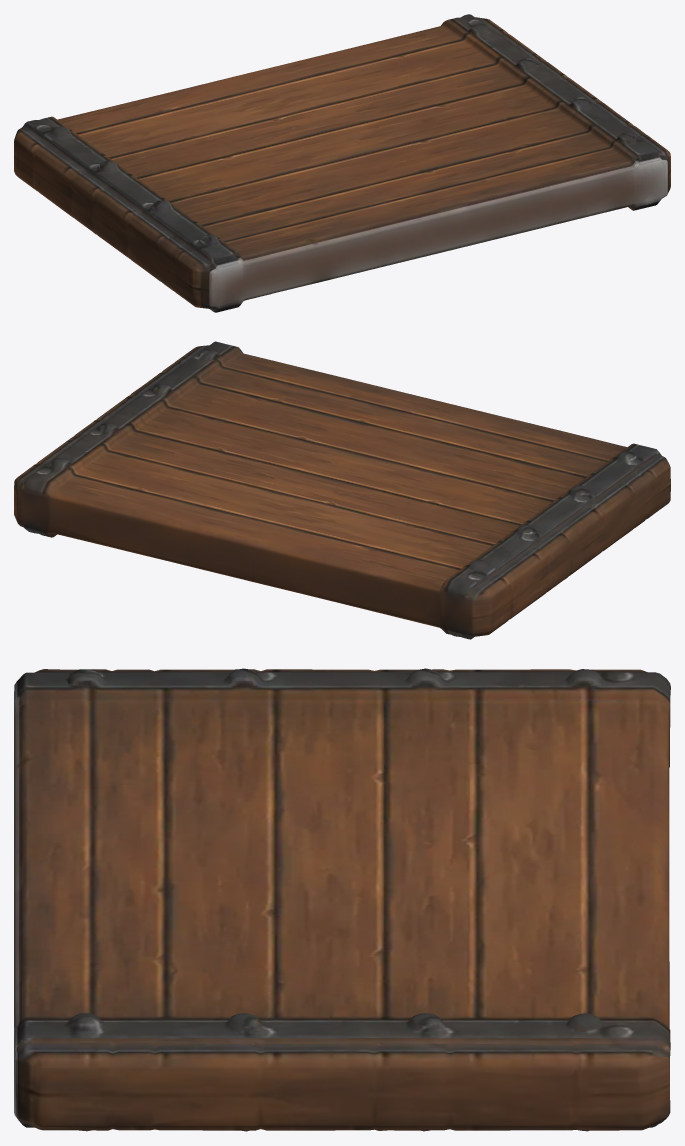
File: SM_Env_TravelDeck.glb
3 renders of one model, top to bottom at view 1: azimuth 30°, elevation 25°; view 2: azimuth 150°, elevation 25°; view 3: azimuth 270°, elevation 25°, orthographic. The views are drawn at different scales.
Visible parts, largest first — view 1: SM_Env_TravelDeck_LOD0; view 2: SM_Env_TravelDeck_LOD0; view 3: SM_Env_TravelDeck_LOD0.
Part boxes in pixels (bbox=[...]): SM_Env_TravelDeck_LOD0: bbox=[14, 14, 670, 312]; SM_Env_TravelDeck_LOD0: bbox=[14, 341, 670, 639]; SM_Env_TravelDeck_LOD0: bbox=[14, 668, 670, 1131].
Bounding box in the file's own units: 5.52 × 0.7313 × 3.88.
1 material, 1 textured.
